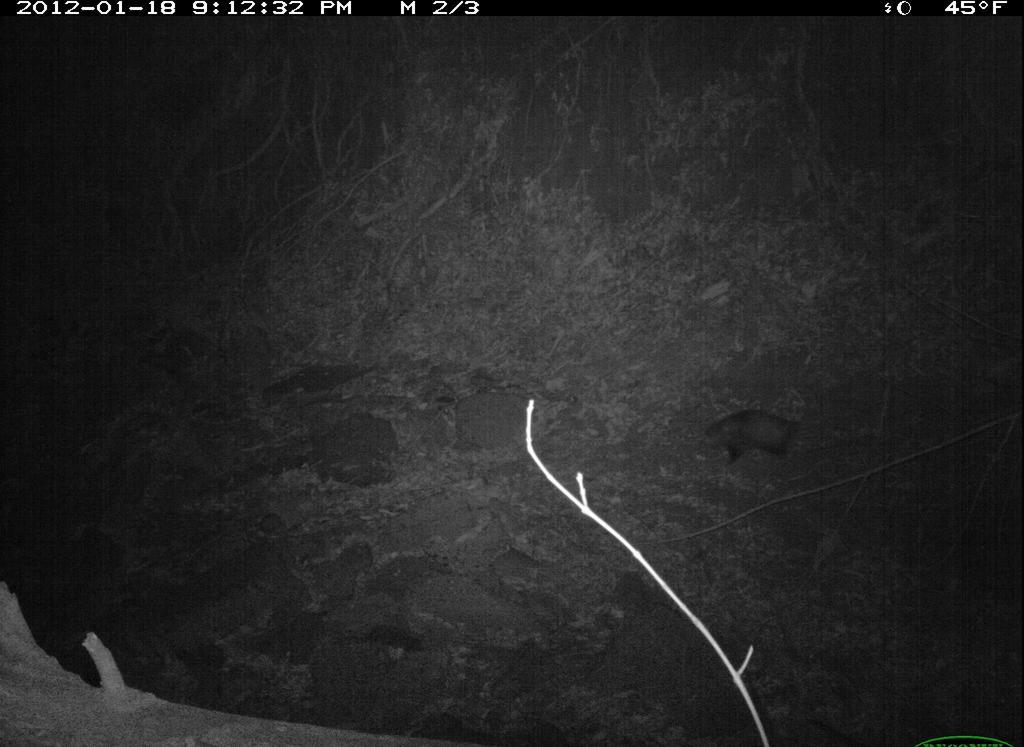opossum: (693, 406, 809, 477)
